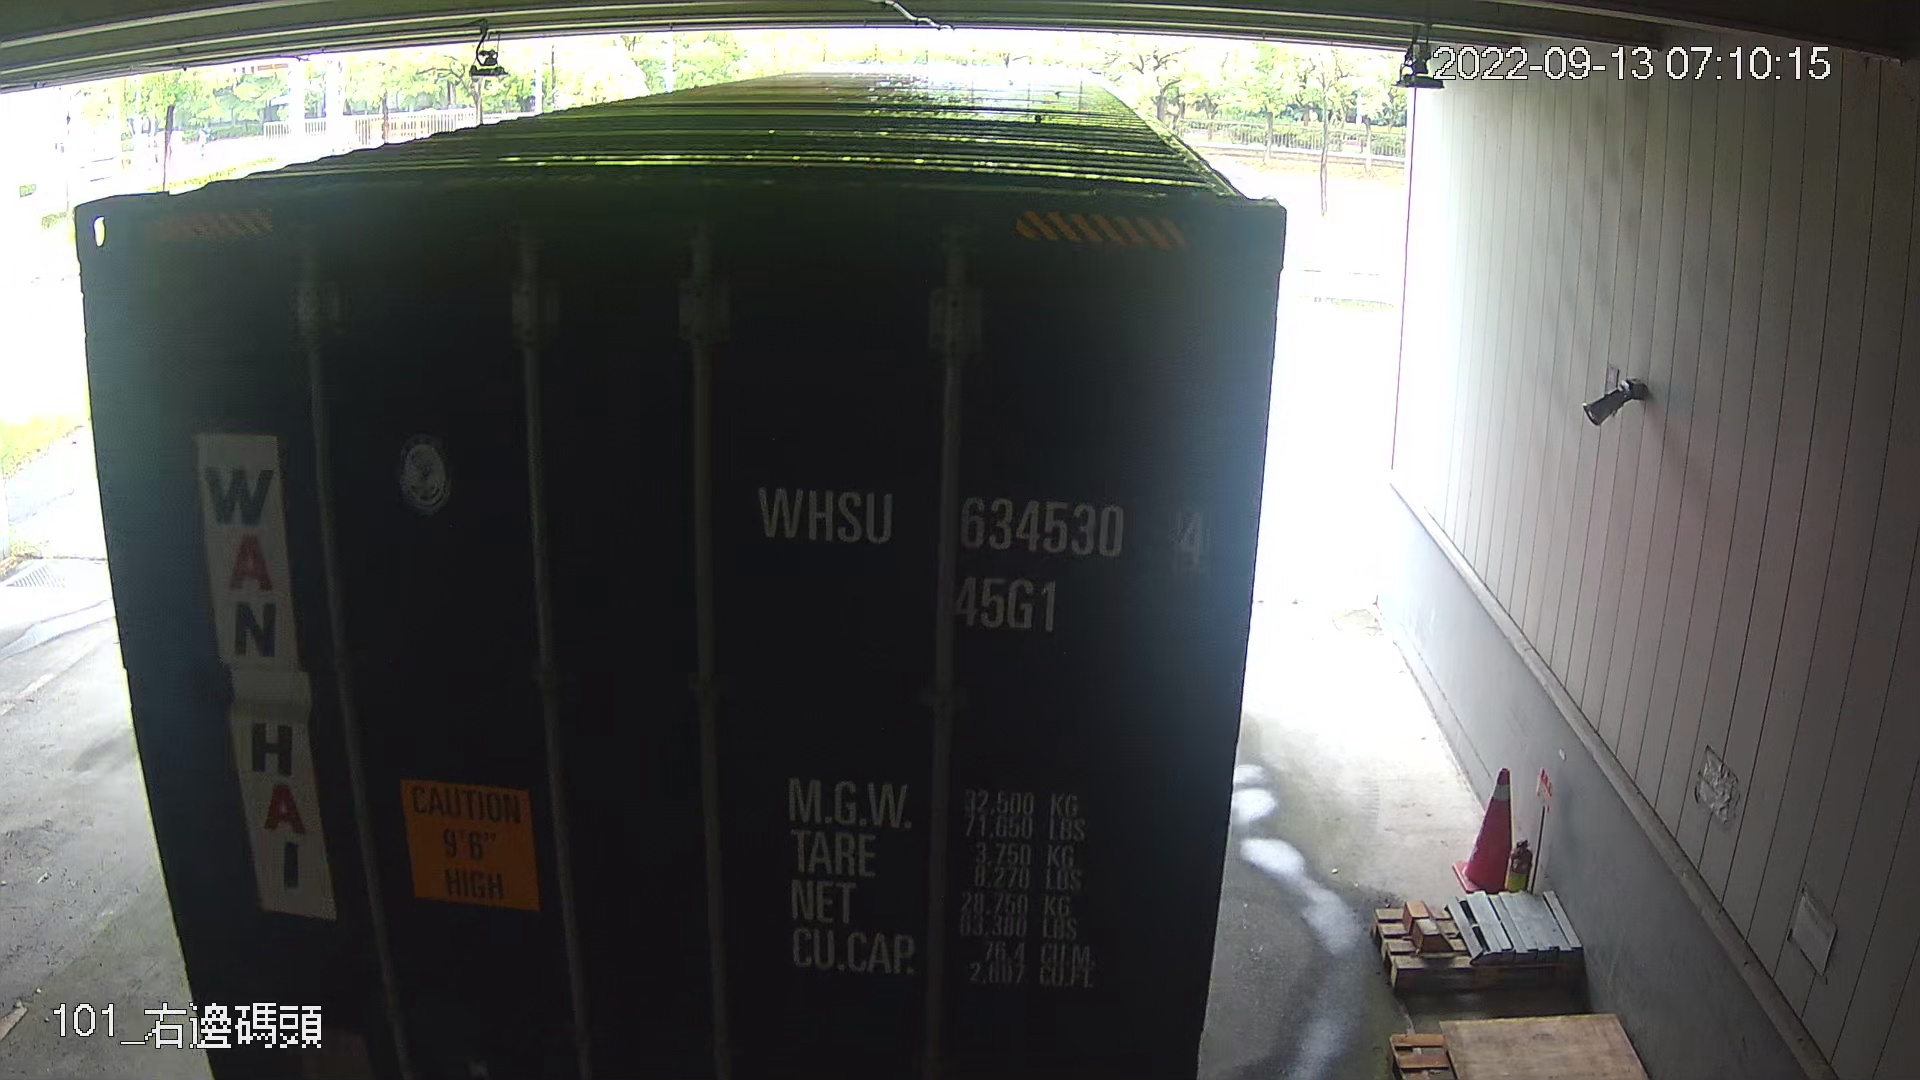container: (742, 464, 1222, 638)
